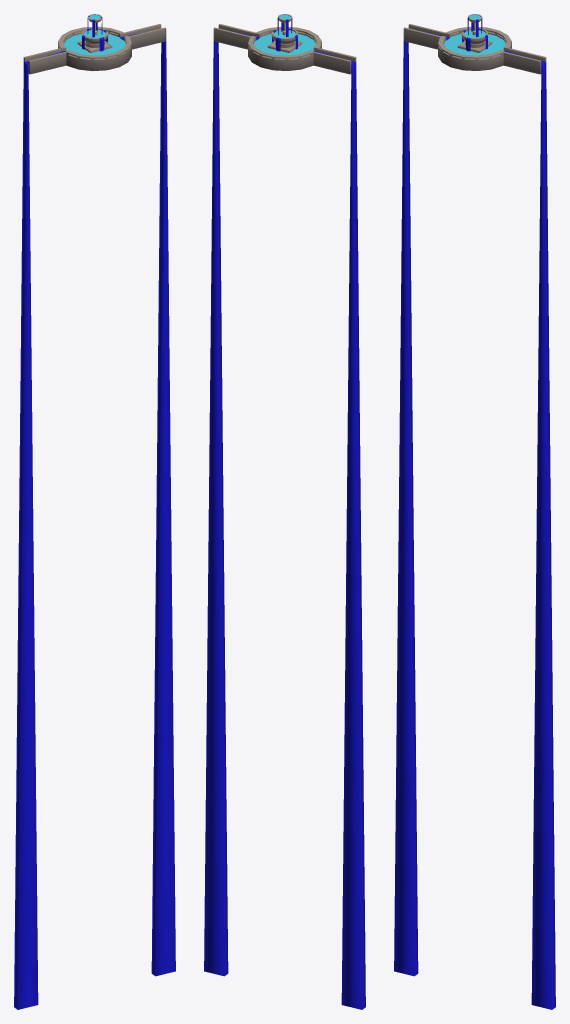
Rendered from Obstaculo_Fuente.fbx.
3 renders of one model, left to right at view 1: azimuth 30°, elevation 25°; view 2: azimuth 150°, elevation 25°; view 3: azimuth 330°, elevation 25°, orthographic.
Parts seen in each view (by area): view 1: Fuente; view 2: Fuente; view 3: Fuente.
Part boxes in pixels (x1,y1,x2,y2): Fuente: (14,14,175,1009); Fuente: (204,14,365,1009); Fuente: (394,14,555,1009).
Size of the model in its own units: 1732 by 10176 by 687.
